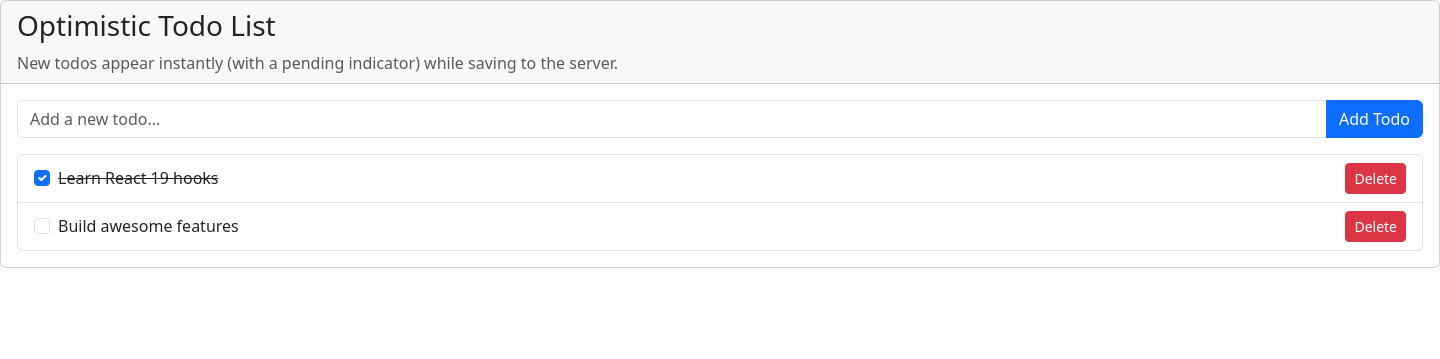
OptimisticTodos › Error handling › should dismiss error message
In the field with placeholder "Add a new todo...": (672, 119) [17, 100, 1327, 138], type "New todo"
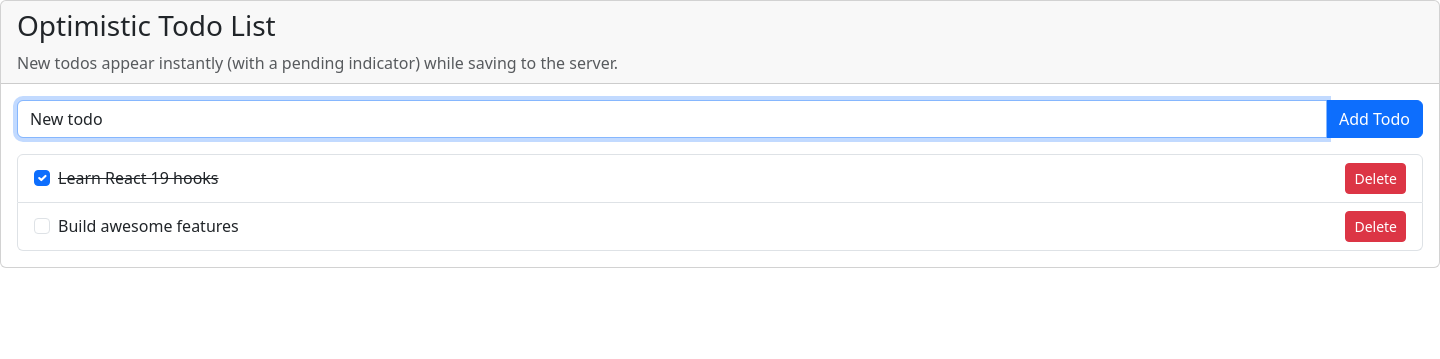
Click the button "Add Todo": (1374, 119) [1326, 100, 1423, 138]
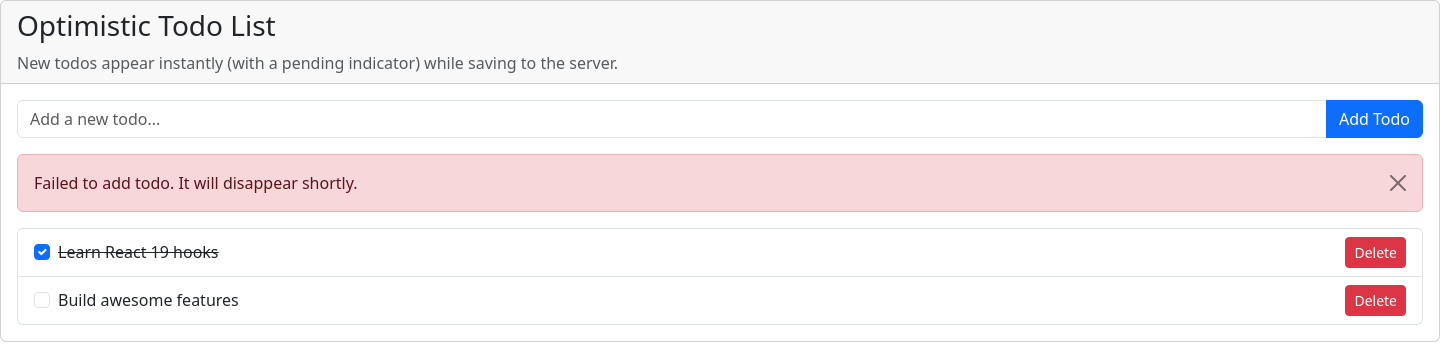
Result: the text "Failed to add todo. It will disappear shortly." is shown at [17, 154, 1423, 212]
Click the 2nd button: (1398, 183) [1374, 155, 1422, 211]
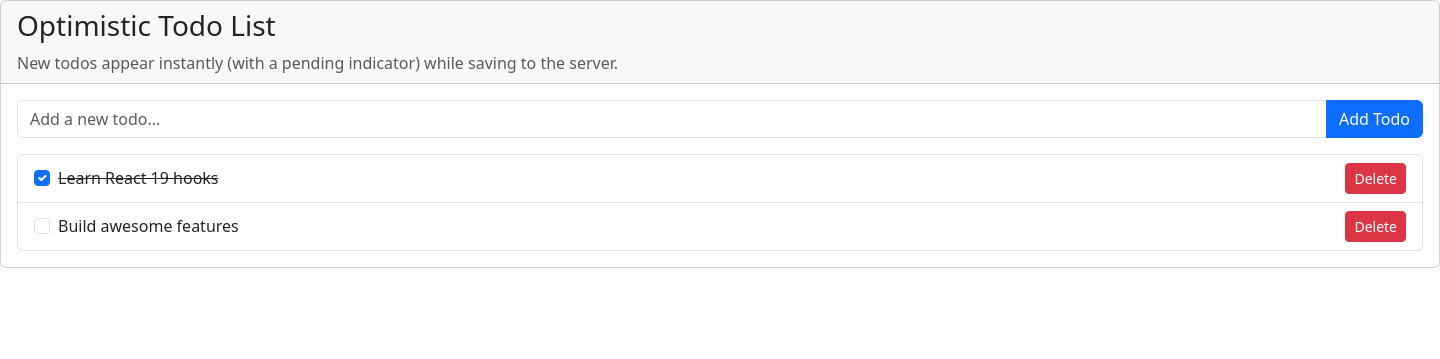
Result: the text "Failed to add todo" is gone
